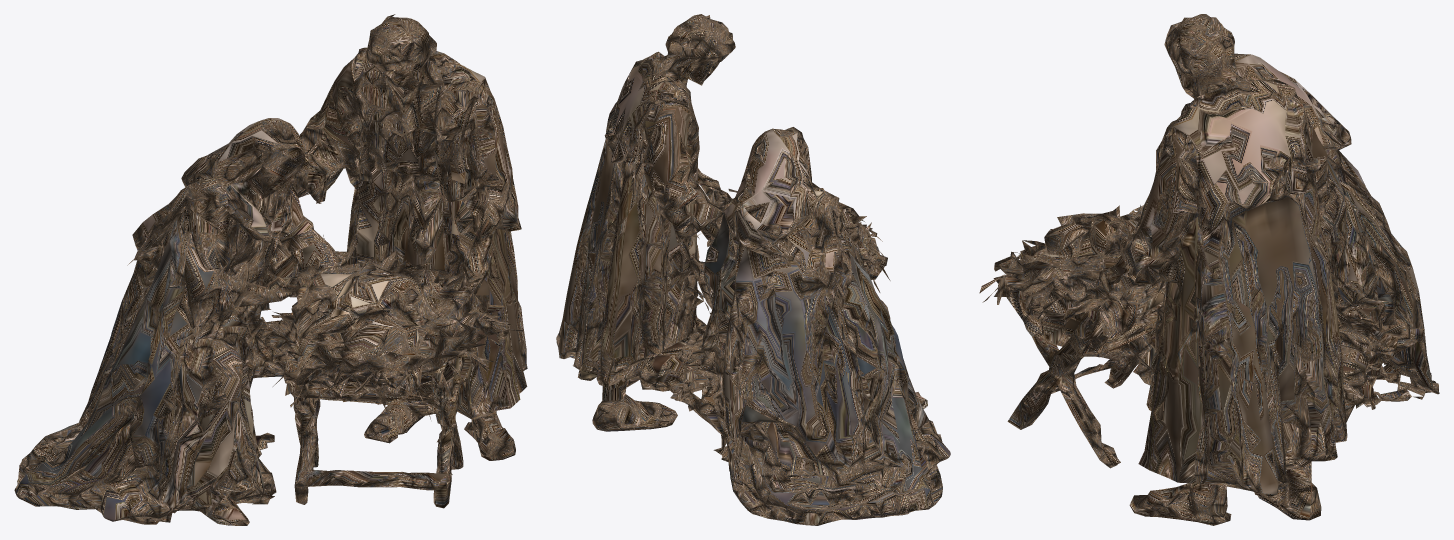
File: nativity-family-pixal3d.glb
3 renders of one model, left to right at view 1: azimuth 30°, elevation 25°; view 2: azimuth 150°, elevation 25°; view 3: azimuth 270°, elevation 25°, orthographic. The views are drawn at different scales.
Parts seen in each view (by area): view 1: geometry_0; view 2: geometry_0; view 3: geometry_0.
Boxes of the visible parts, <box> form: geometry_0: <box>14,14,527,525</box>; geometry_0: <box>556,14,950,525</box>; geometry_0: <box>979,14,1439,525</box>.
Size of the model in its own units: 1.95 by 1.79 by 1.6.
Materials: 1 (1 with a texture image).
